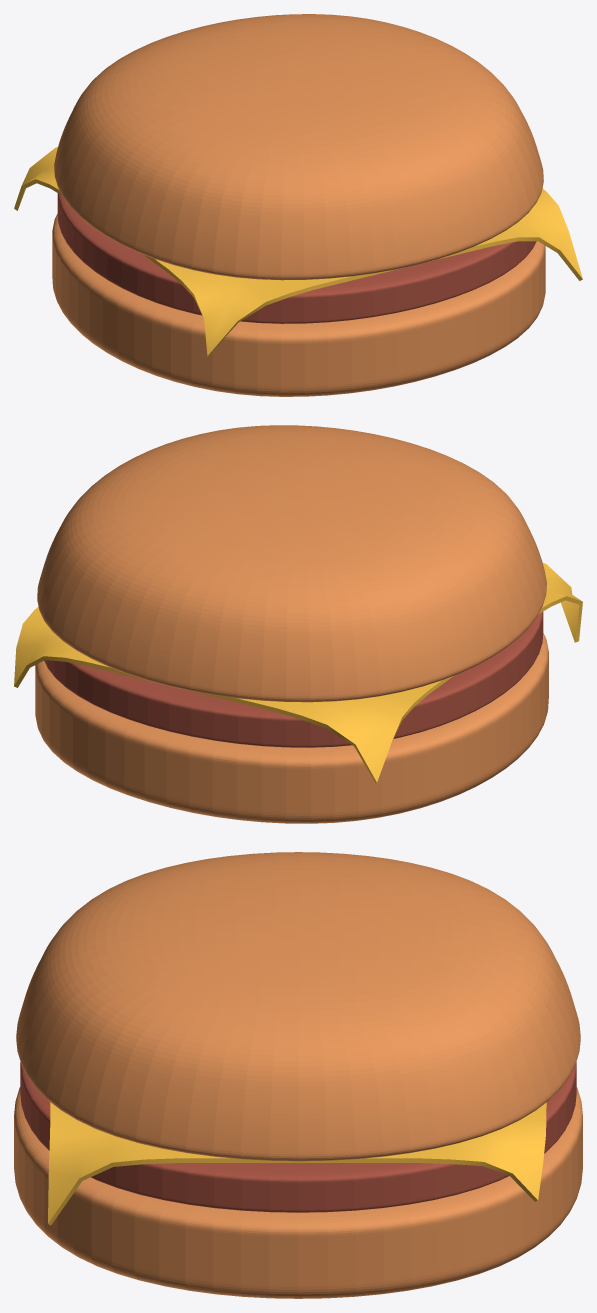
The model's file is hamburger.glb.
3 renders of one model, top to bottom at view 1: azimuth 30°, elevation 25°; view 2: azimuth 150°, elevation 25°; view 3: azimuth 270°, elevation 25°, orthographic. The views are drawn at different scales.
Visible parts, largest first — view 1: Cube.002, Cube, Cube.001, Plane; view 2: Cube.002, Cube, Cube.001, Plane; view 3: Cube.002, Cube, Cube.001, Plane.
Part boxes in pixels (bbox=[...]): Cube.002: bbox=[54, 14, 543, 280]; Cube: bbox=[52, 214, 545, 396]; Cube.001: bbox=[57, 193, 536, 323]; Plane: bbox=[14, 147, 582, 355]; Cube.002: bbox=[37, 425, 546, 702]; Cube: bbox=[35, 633, 548, 823]; Cube.001: bbox=[44, 612, 543, 747]; Plane: bbox=[14, 563, 582, 783]; Cube.002: bbox=[16, 852, 580, 1161]; Cube: bbox=[14, 1087, 582, 1298]; Cube.001: bbox=[20, 1062, 576, 1212]; Plane: bbox=[48, 1102, 546, 1225].
Bounding box in the file's own units: 8.8 × 4.72 × 8.8.
